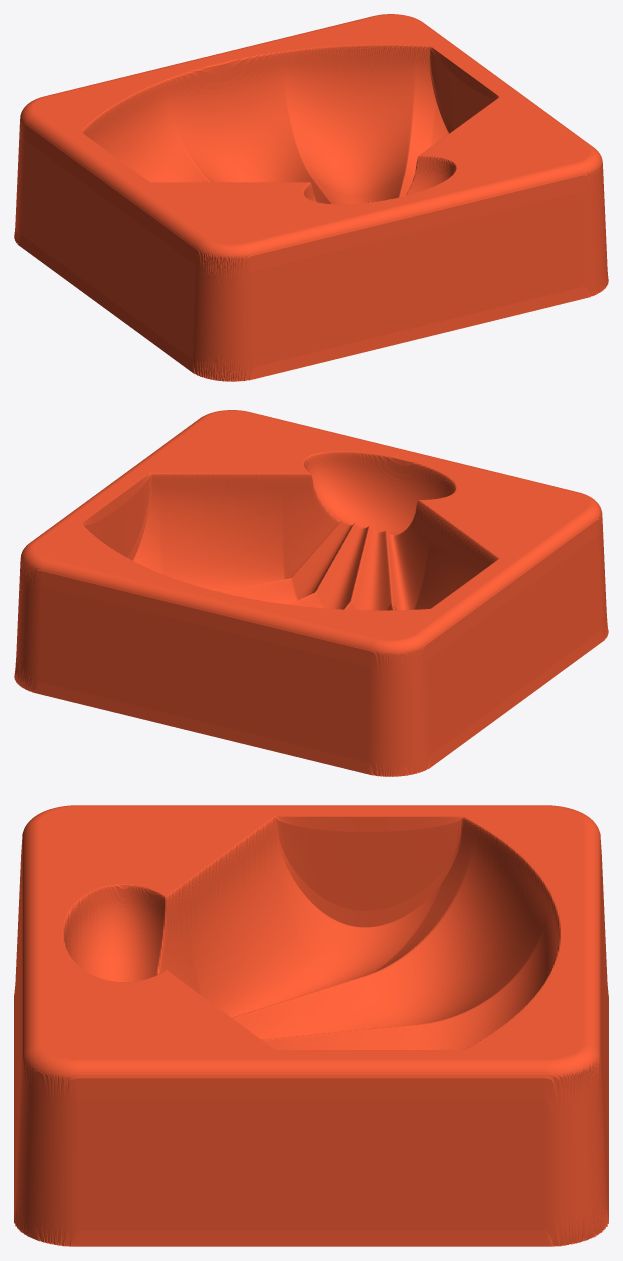
The model's file is mold.glb.
3 renders of one model, top to bottom at view 1: azimuth 30°, elevation 25°; view 2: azimuth 150°, elevation 25°; view 3: azimuth 270°, elevation 25°, orthographic. The views are drawn at different scales.
Visible parts, largest first — view 1: geometry_0; view 2: geometry_0; view 3: geometry_0.
Part boxes in pixels (x1,y1,x2,y2): geometry_0: (14,14,608,381); geometry_0: (14,410,608,776); geometry_0: (14,805,608,1246).
Bounding box in the file's own units: 0.0912 × 0.0274 × 0.0836.
